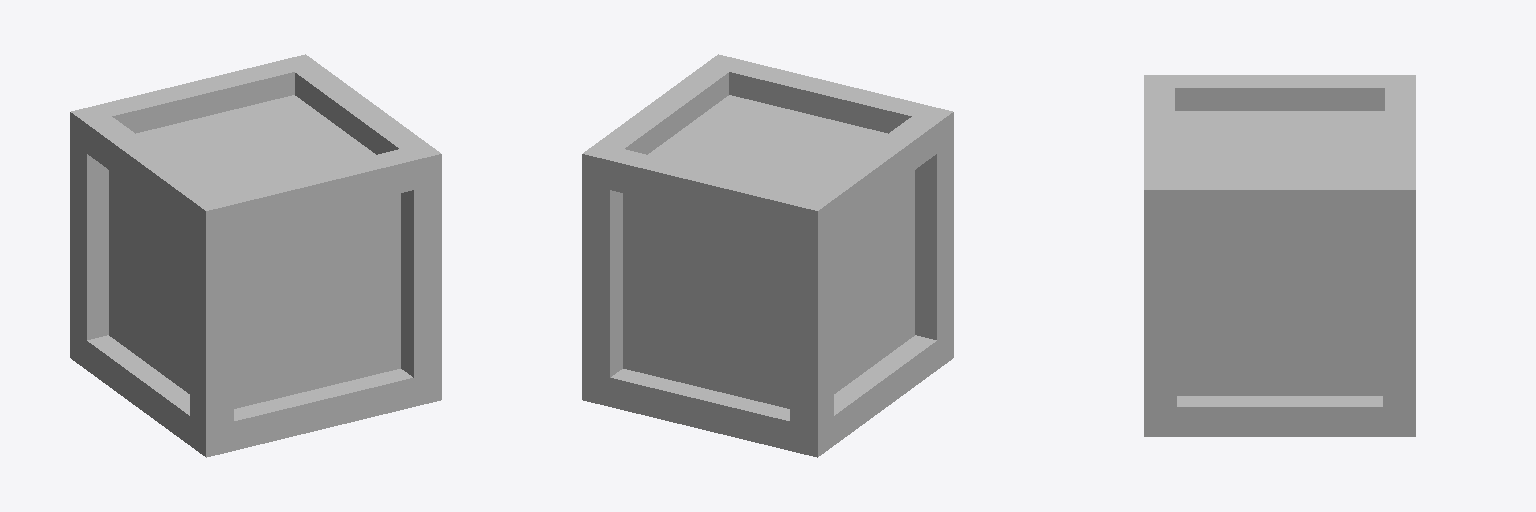
File: square.obj
3 views of the same model, side by side, from view 1: azimuth 30°, elevation 25°; view 2: azimuth 150°, elevation 25°; view 3: azimuth 270°, elevation 25° (orthographic).
Parts seen in each view (by area): view 1: Cube_Cube.001; view 2: Cube_Cube.001; view 3: Cube_Cube.001.
Part boxes in pixels (bbox=[...]): Cube_Cube.001: bbox=[70, 54, 441, 457]; Cube_Cube.001: bbox=[582, 54, 953, 457]; Cube_Cube.001: bbox=[1144, 75, 1415, 436].
Size of the model in its own units: 2 by 2 by 2.